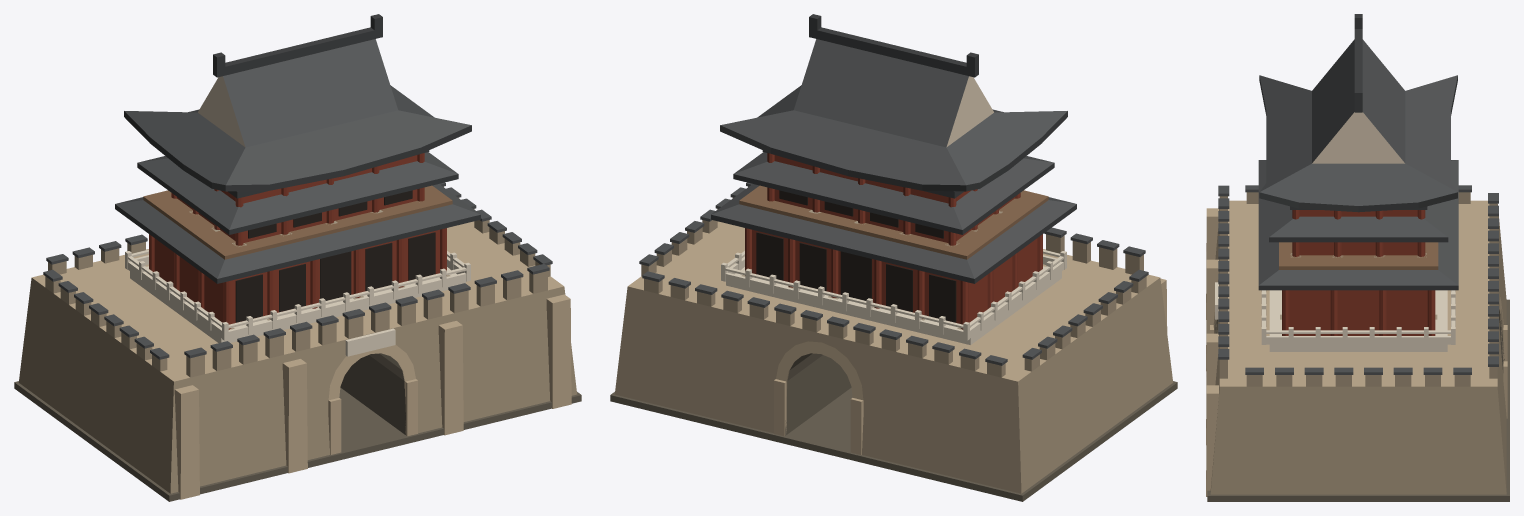
File: J02_far.glb
The picture shows the model from 3 angles, left to right: view 1: azimuth 30°, elevation 25°; view 2: azimuth 150°, elevation 25°; view 3: azimuth 270°, elevation 25°; orthographic projection. The views are drawn at different scales.
Parts seen in each view (by area): view 1: J02_far; view 2: J02_far; view 3: J02_far.
Boxes of the visible parts, bbox=[...] form: J02_far: bbox=[14, 14, 581, 501]; J02_far: bbox=[610, 14, 1177, 501]; J02_far: bbox=[1206, 14, 1509, 501].
Size of the model in its own units: 34.4 by 28.62 by 22.5.
